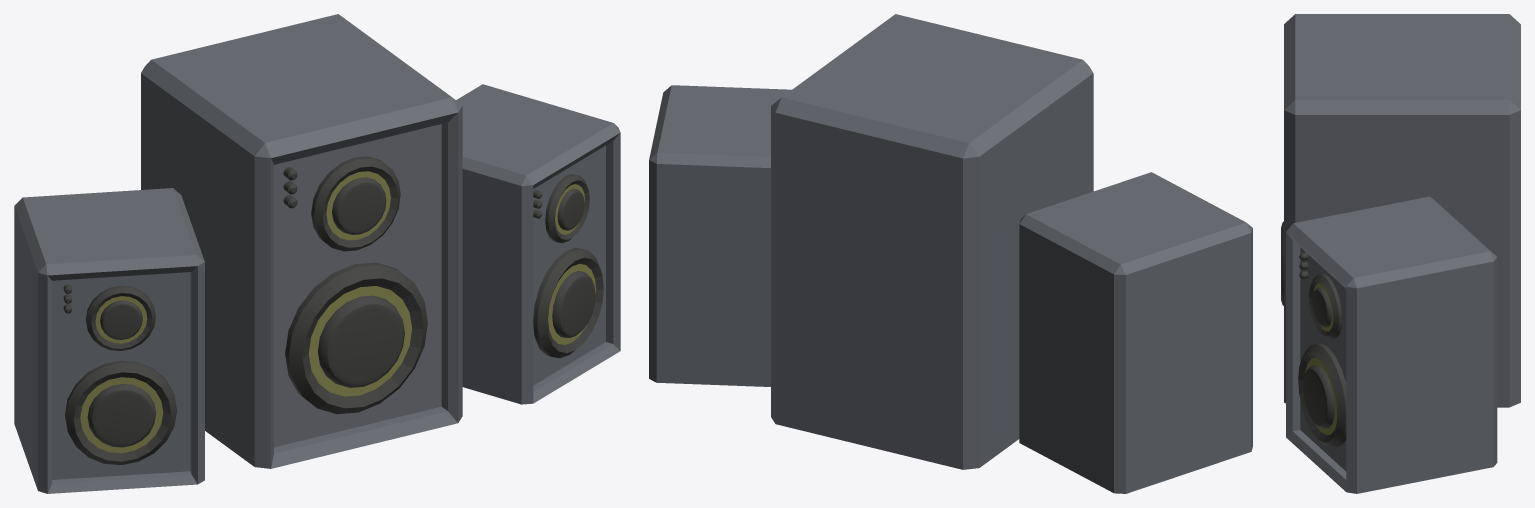
Rendered from music boxes.fbx.
The picture shows the model from 3 angles, left to right: view 1: azimuth 30°, elevation 25°; view 2: azimuth 150°, elevation 25°; view 3: azimuth 270°, elevation 25°; orthographic projection. The views are drawn at different scales.
Parts seen in each view (by area): view 1: pCylinder2, pasted__pasted__pCylinder2, pasted__pCylinder2; view 2: pCylinder2, pasted__pasted__pCylinder2, pasted__pCylinder2; view 3: pasted__pCylinder2, pCylinder2.
Part boxes in pixels (x1=…): pCylinder2: x1=141, y1=14, x2=462, y2=468; pasted__pasted__pCylinder2: x1=14, y1=188, x2=204, y2=493; pasted__pCylinder2: x1=456, y1=84, x2=620, y2=404; pCylinder2: x1=771, y1=14, x2=1093, y2=469; pasted__pasted__pCylinder2: x1=1019, y1=172, x2=1252, y2=493; pasted__pCylinder2: x1=649, y1=85, x2=791, y2=386; pasted__pCylinder2: x1=1286, y1=196, x2=1497, y2=493; pCylinder2: x1=1281, y1=14, x2=1520, y2=407.
Size of the model in its own units: 7.67 by 4.04 by 2.9.
